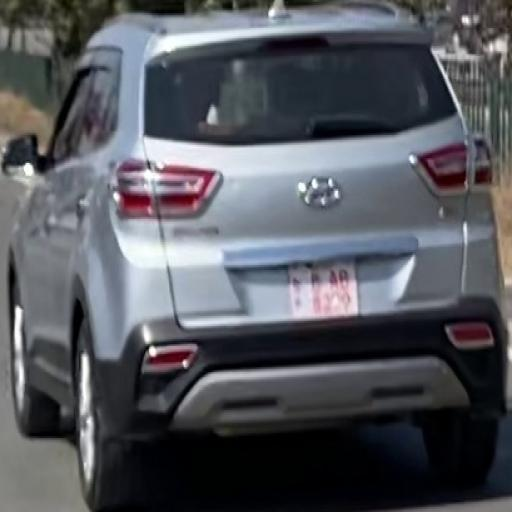license_plate: (285, 259, 363, 324)
